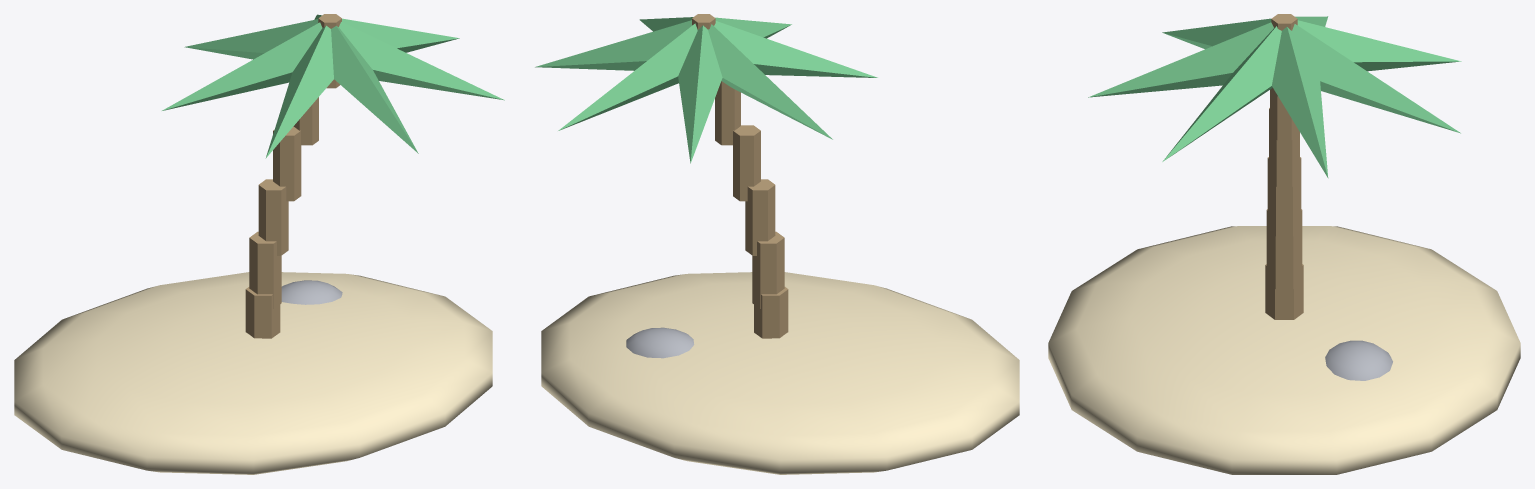
The model's file is ocean__islet.fbx.
3 views of the same model, side by side, from view 1: azimuth 30°, elevation 25°; view 2: azimuth 150°, elevation 25°; view 3: azimuth 270°, elevation 25° (orthographic). The views are drawn at different scales.
Parts seen in each view (by area): view 1: ocean__islet; view 2: ocean__islet; view 3: ocean__islet.
Part boxes in pixels (box(x1,y1,x2,y2)): ocean__islet: box(14, 14, 504, 474); ocean__islet: box(535, 14, 1019, 474); ocean__islet: box(1048, 14, 1520, 474).
Bounding box in the file's own units: 4.73 × 3.83 × 3.94.
